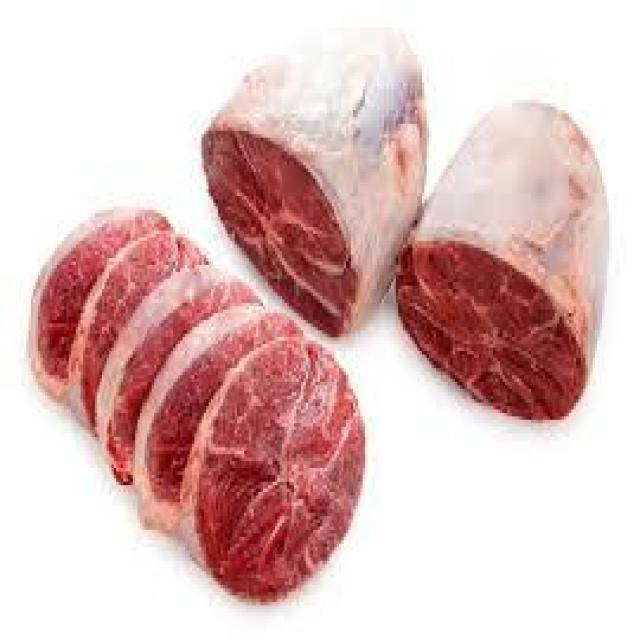Wet Waste: (216, 22, 404, 308)
